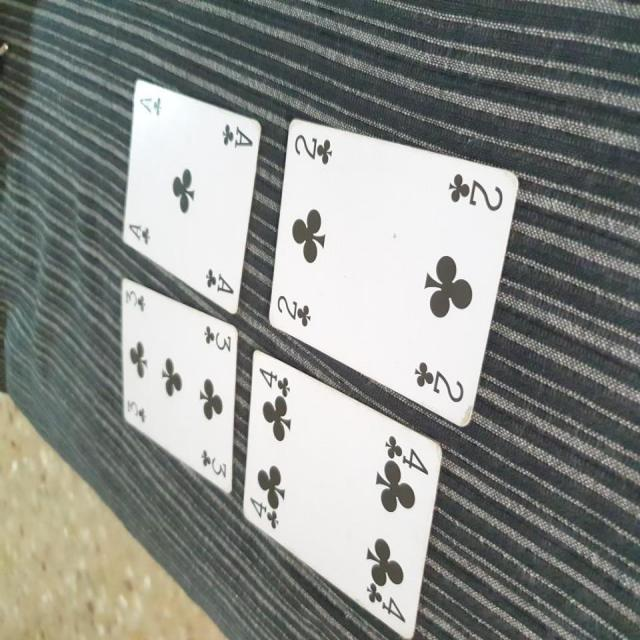2 Trefoils: (266, 117, 521, 432)
3 Trefoils: (95, 275, 240, 494)
4 Trefoils: (240, 348, 447, 639)
A Trefoils: (119, 79, 263, 318)
